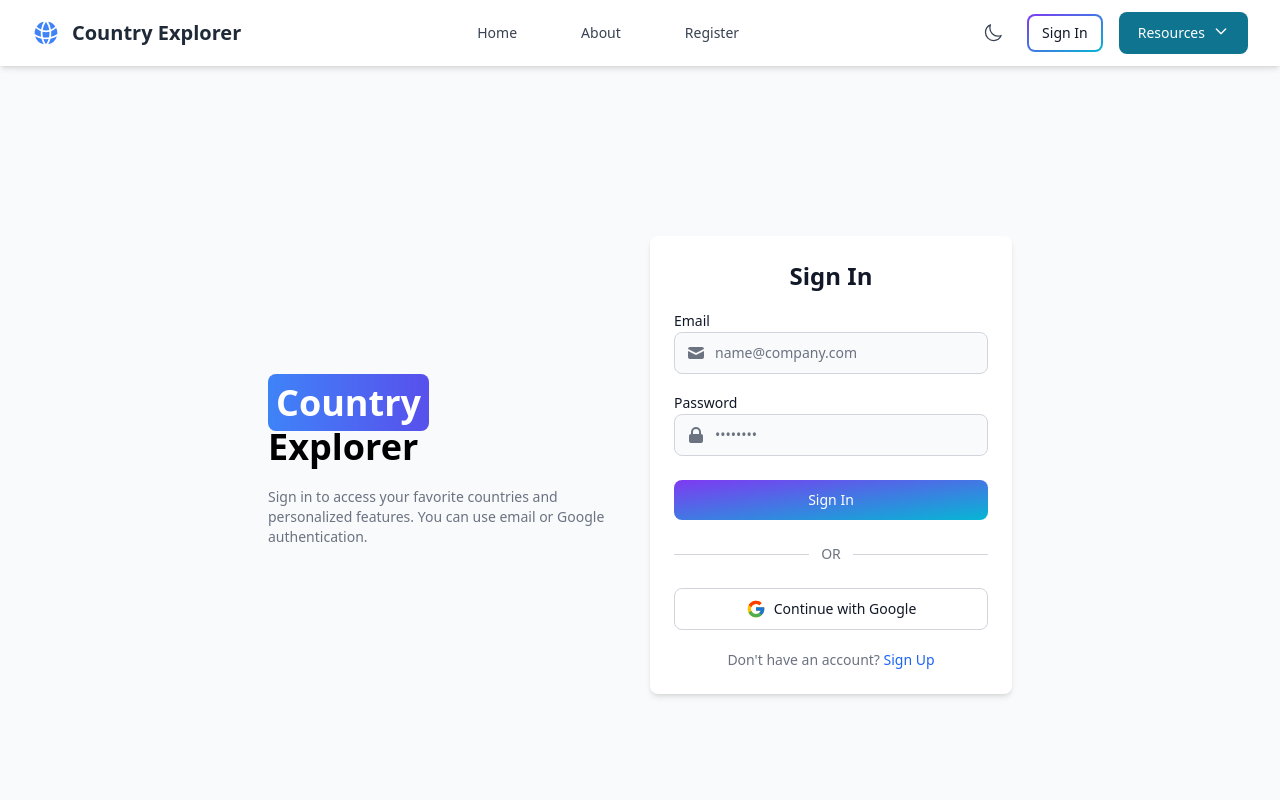
it: Authentication Flow › Sign In Page Tests › should navigate to sign-up page
expect the button "Sign In" in the row of "Register" is shown: met, box [1027,14,1103,52]
Click the link "Sign Up" at (910, 660), box [884,650,935,669]
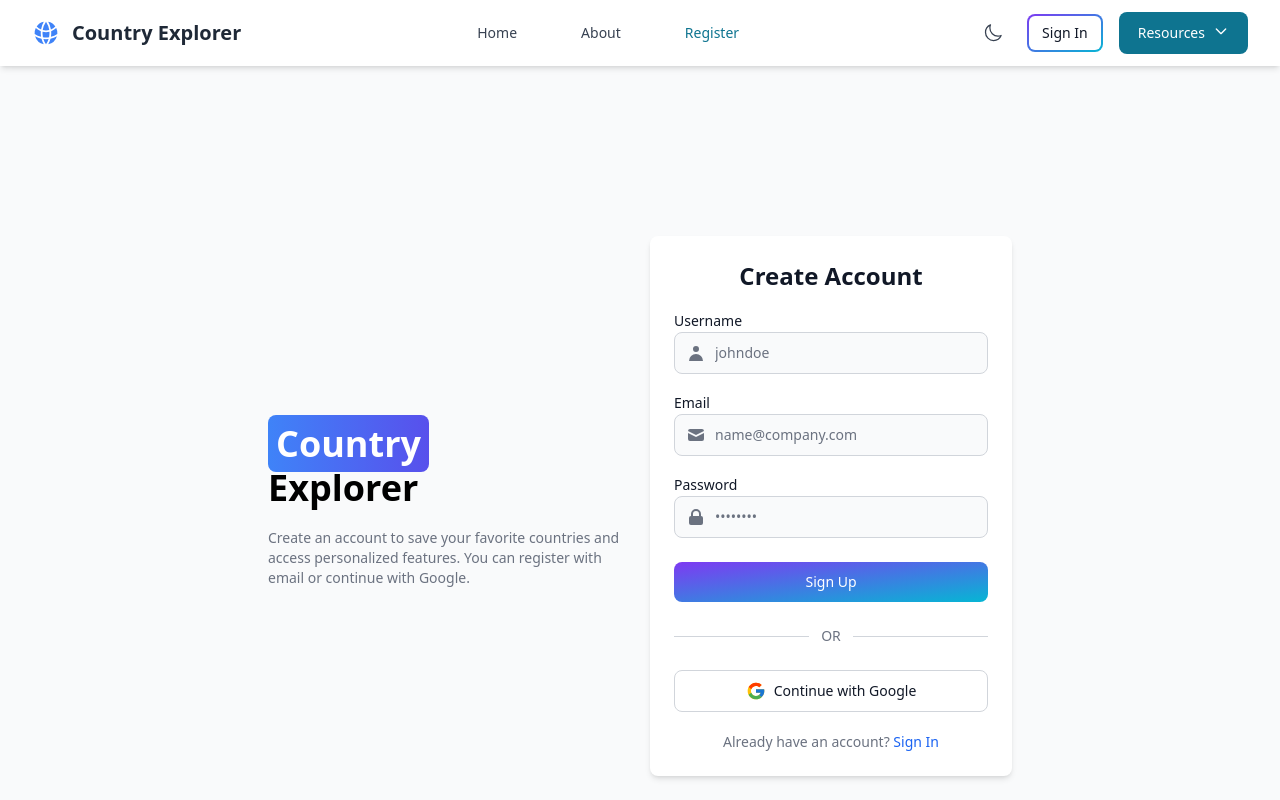
expect the heading "Create Account" is shown: met, box [739,259,923,292]
